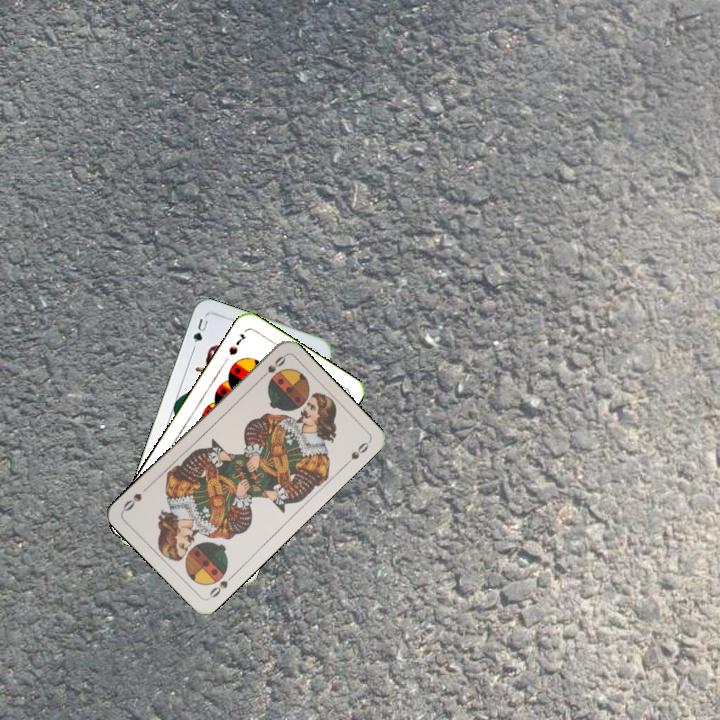GU: (189, 314, 211, 345)
S7: (225, 329, 248, 358)
SO: (255, 351, 288, 383), (204, 570, 237, 602)
